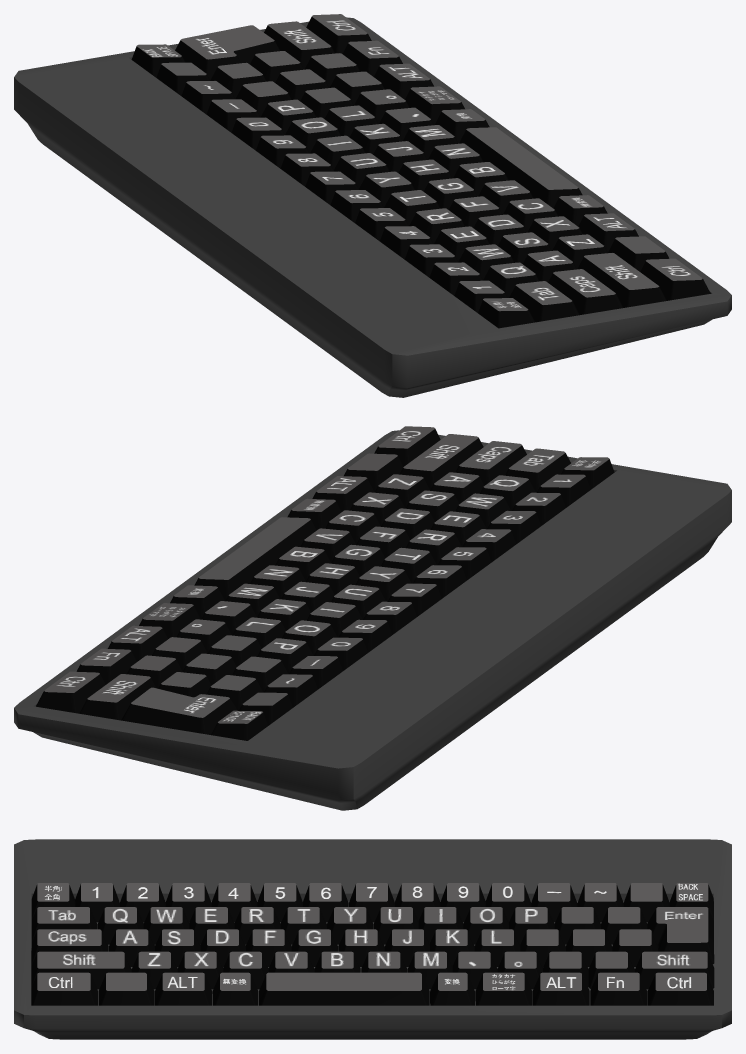
The model's file is keyboard.fbx.
The picture shows the model from 3 angles, top to bottom: view 1: azimuth 30°, elevation 25°; view 2: azimuth 150°, elevation 25°; view 3: azimuth 270°, elevation 25°; orthographic projection. The views are drawn at different scales.
Visible parts, largest first — view 1: pCube1, pCube122, pCube128, pCube104, pCube91, pCube119, pCube76, pCube105, pCube127, pCube120, pCube124, pCube126 (+54 smaller); view 2: pCube1, pCube122, pCube128, pCube104, pCube105, pCube127, pCube91, pCube76, pCube119, pCube120, pCube124, pCube126 (+54 smaller); view 3: pCube1, pCube122, pCube128, pCube104, pCube119, pCube127, pCube105, pCube125, pCube124, pCube126, pCube120, pCube117 (+54 smaller).
Part boxes in pixels (x1,y1,x2,y2): pCube1: [14, 17, 731, 397]; pCube122: [459, 127, 582, 208]; pCube128: [175, 25, 279, 79]; pCube104: [577, 253, 666, 307]; pCube91: [548, 269, 623, 314]; pCube119: [640, 258, 710, 300]; pCube76: [509, 281, 579, 322]; pCube105: [264, 21, 334, 69]; pCube127: [306, 14, 371, 53]; pCube120: [578, 213, 638, 252]; pCube124: [405, 86, 464, 124]; pCube126: [343, 40, 402, 76]; pCube1: [14, 430, 731, 810]; pCube122: [194, 517, 316, 600]; pCube128: [121, 687, 237, 734]; pCube104: [399, 434, 483, 490]; pCube105: [79, 674, 155, 720]; pCube127: [36, 671, 105, 713]; pCube91: [455, 441, 526, 485]; pCube76: [505, 448, 570, 492]; pCube119: [374, 426, 440, 466]; pCube120: [312, 476, 374, 511]; pCube124: [139, 603, 200, 638]; pCube126: [76, 648, 136, 684]; pCube1: [14, 839, 731, 1039]; pCube122: [259, 972, 429, 1005]; pCube128: [647, 907, 714, 963]; pCube104: [31, 951, 131, 989]; pCube119: [31, 972, 97, 1005]; pCube127: [647, 972, 713, 1005]; pCube105: [635, 951, 714, 989]; pCube125: [532, 972, 589, 1005]; pCube124: [475, 972, 532, 1005]; pCube126: [590, 972, 647, 1005]; pCube120: [155, 972, 212, 1005]; pCube117: [98, 972, 154, 1005].
Size of the model in its own units: 13.7 by 2.45 by 26.99.
2 materials, 1 textured.
